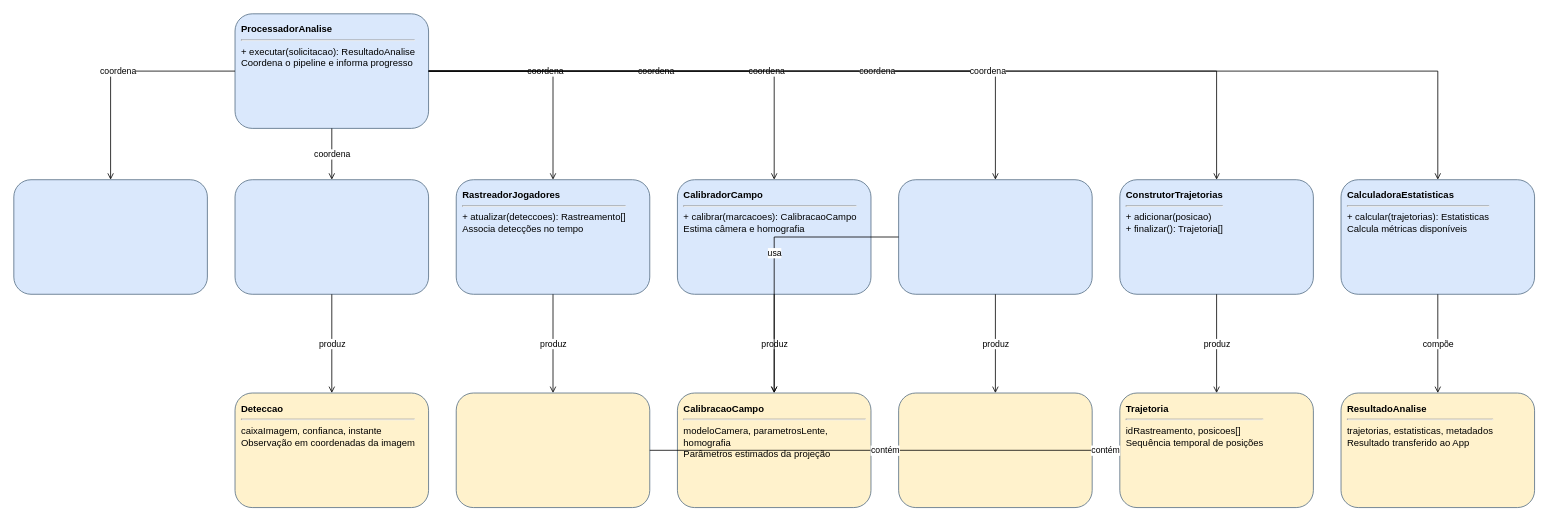
Image size: 1548x521. Some labels were removed from this diagram. The shapes that lost their labels are listed below. From the top down, each one's centre as x and y in pixels, then its label:
At pixel 110 236: "LeitorVideo + metadados() + lerQuadros() Lê vídeo e instantes".
At pixel 331 236: "DetectorJogadores + detectar(quadro): Detecao[] Localiza jogadores".
At pixel 995 236: "ProjetorCampo + projetar(ponto, calibracao): Posicao Converte imagem para campo".
At pixel 552 450: "Rastreamento idRastreamento, trajetoria Identificador temporário do rastreador".
At pixel 995 450: "Posicao instante, xCampo, yCampo Coordenadas normalizadas ou métricas".
